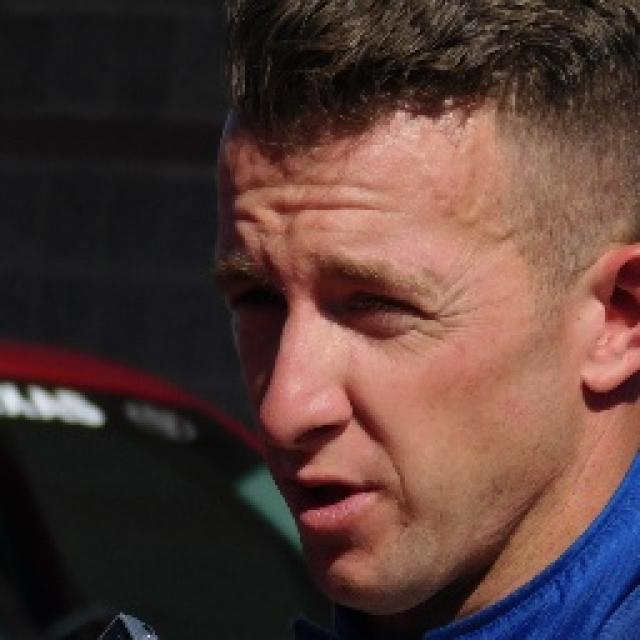earlobe: (586, 240, 640, 398)
